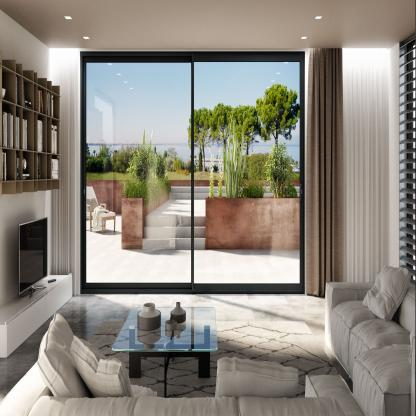Curtains: (300, 45, 399, 299)
Window: (80, 50, 304, 296)
